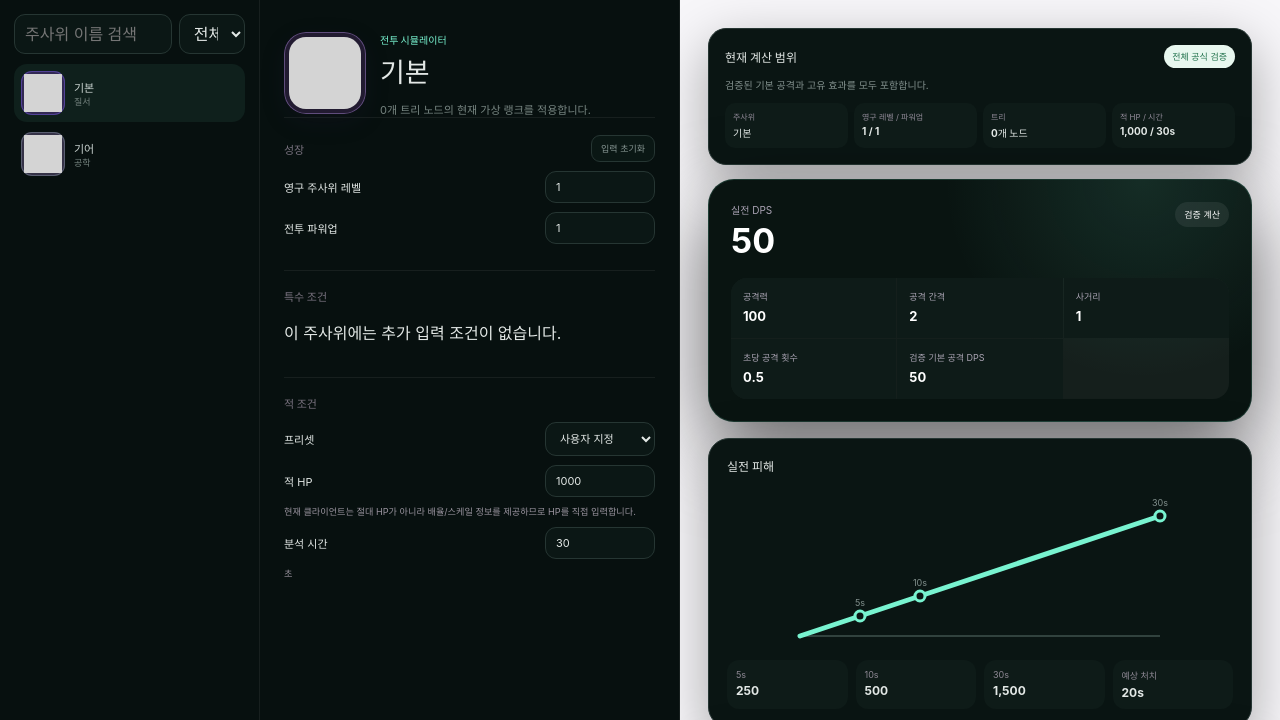
it: SimulatorView › uses the shared engine for final stats, checkpoints and kill time
Expected: the element with test id "v3-stat-panel" shows "50", 731,220 -> 775,261
Expected: the element with test id "v3-damage-graph" shows "250", 736,683 -> 759,698
Step 1. Replace the text in the number field labelled "영구 주사위 레벨" with "2" → (600, 187), box 545,171 -> 655,203
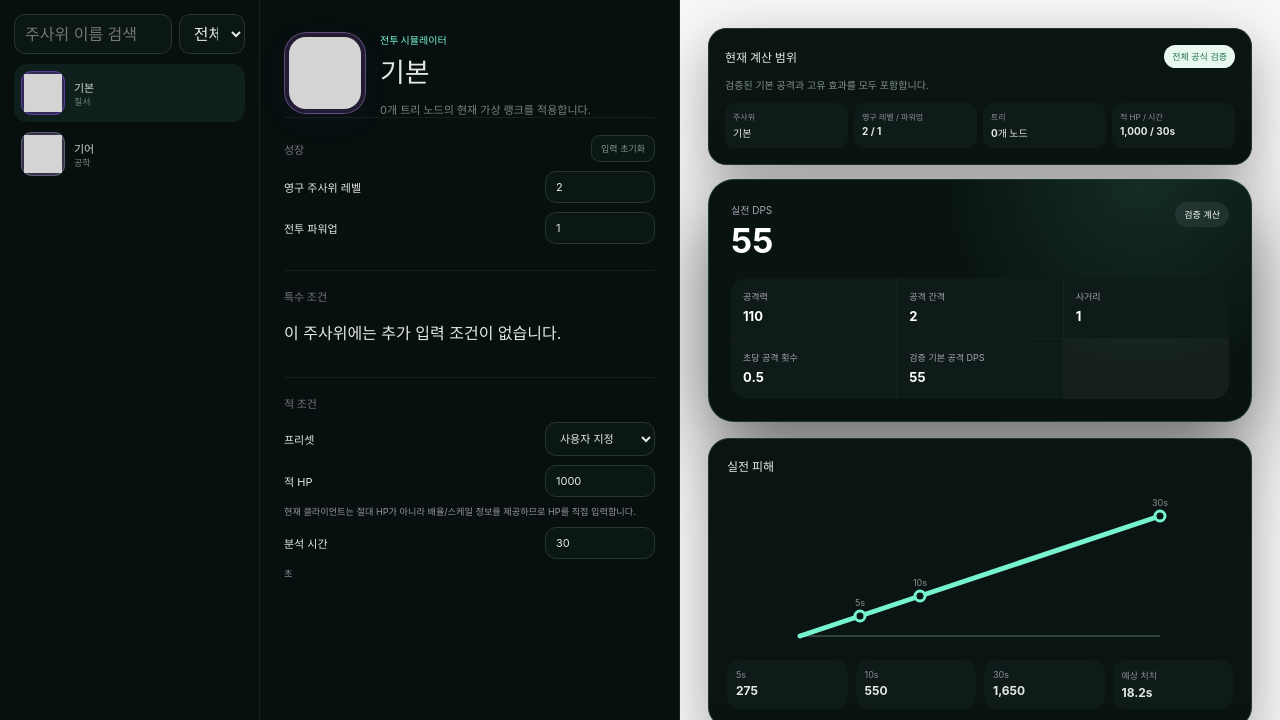
Step 2. Replace the text in the number field labelled "전투 파워업" with "2" → (600, 228), box 545,212 -> 655,244
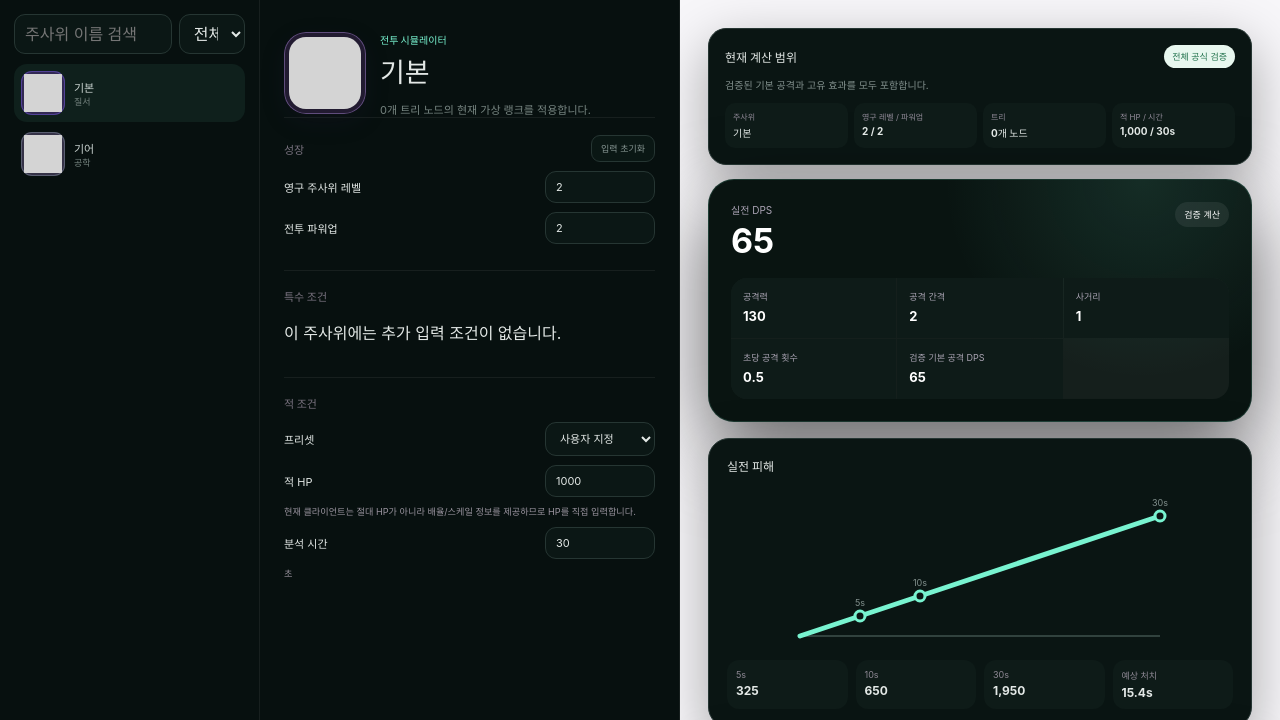
Now the element with test id "v3-stat-panel" shows "130", box 743,308 -> 766,324
Now the element with test id "v3-stat-panel" shows "65", box 731,220 -> 774,261
